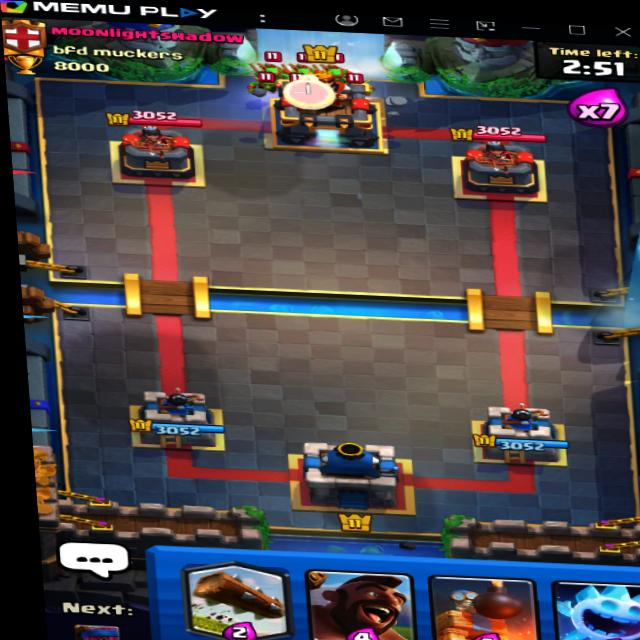Goblin: (248, 70, 288, 97)
Speargoblin: (244, 50, 289, 81), (324, 56, 366, 84), (292, 57, 317, 78)
